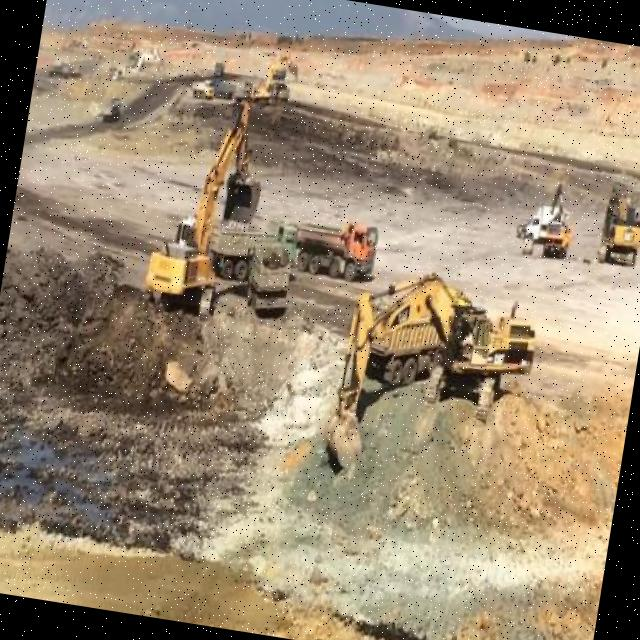Dump Truck: (368, 294, 449, 386), (296, 213, 382, 275), (210, 228, 302, 276), (243, 238, 293, 320), (542, 220, 573, 260)
Excavator: (318, 262, 550, 495), (140, 85, 276, 330), (590, 185, 640, 275)
